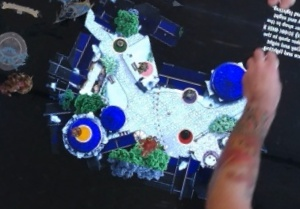green: (108, 33, 133, 58)
pink: (135, 58, 156, 79)
red: (177, 126, 197, 147)
violet: (177, 82, 202, 109)
yellow: (70, 119, 97, 145)
